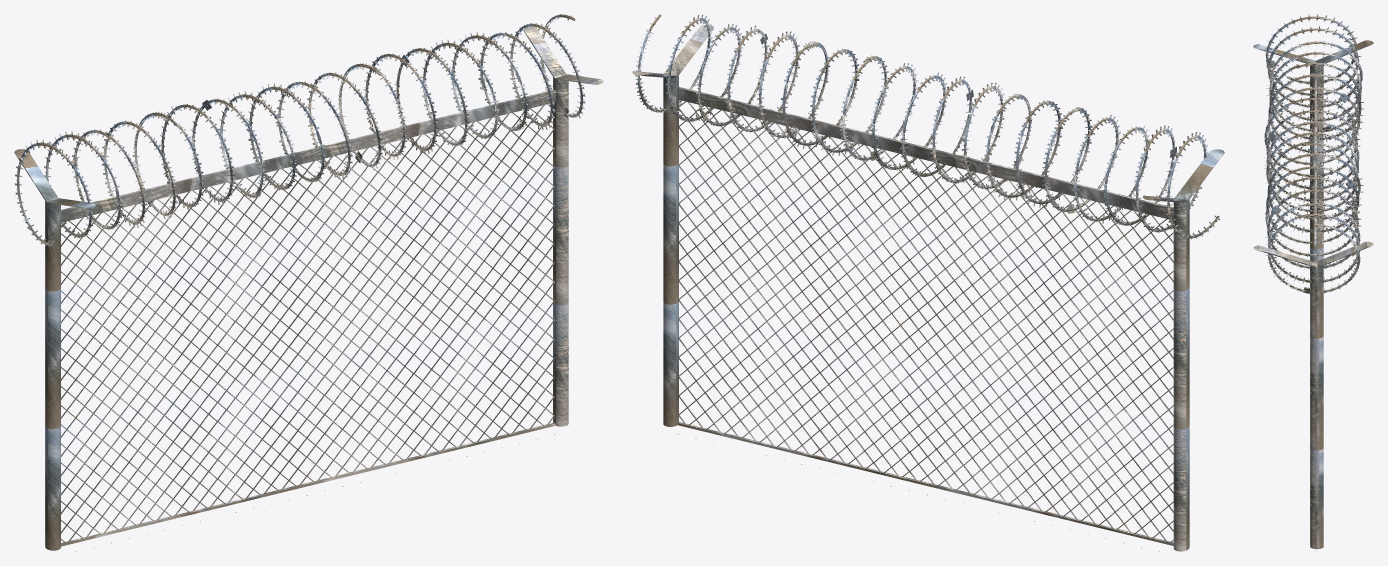
The model's file is fence_combined.fbx.
3 renders of one model, left to right at view 1: azimuth 30°, elevation 25°; view 2: azimuth 150°, elevation 25°; view 3: azimuth 270°, elevation 25°, orthographic. The views are drawn at different scales.
Visible parts, largest first — view 1: Spring319; view 2: Spring319; view 3: Spring319.
Boxes of the visible parts, bbox=[...] form: Spring319: bbox=[14, 14, 603, 551]; Spring319: bbox=[632, 14, 1224, 551]; Spring319: bbox=[1253, 14, 1373, 551].
Size of the model in its own units: 0.4155 by 0.0982 by 0.3045.
Materials: 1 (1 with a texture image).
